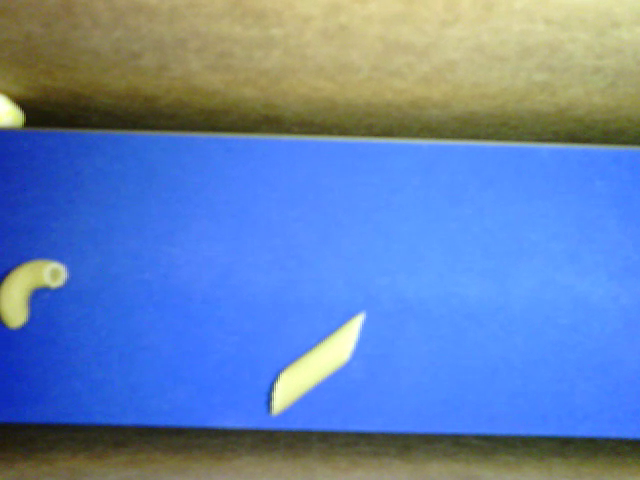elbow: (1, 259, 69, 328)
penne: (271, 312, 364, 416)
